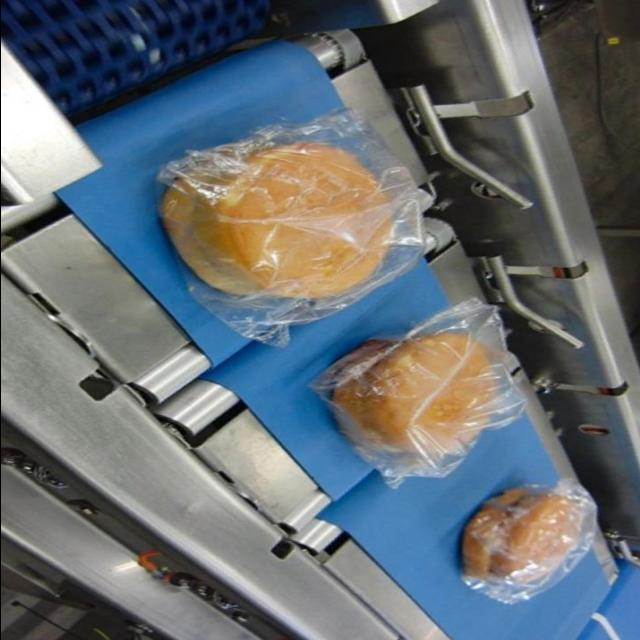food: (158, 139, 398, 301), (321, 322, 513, 470)
